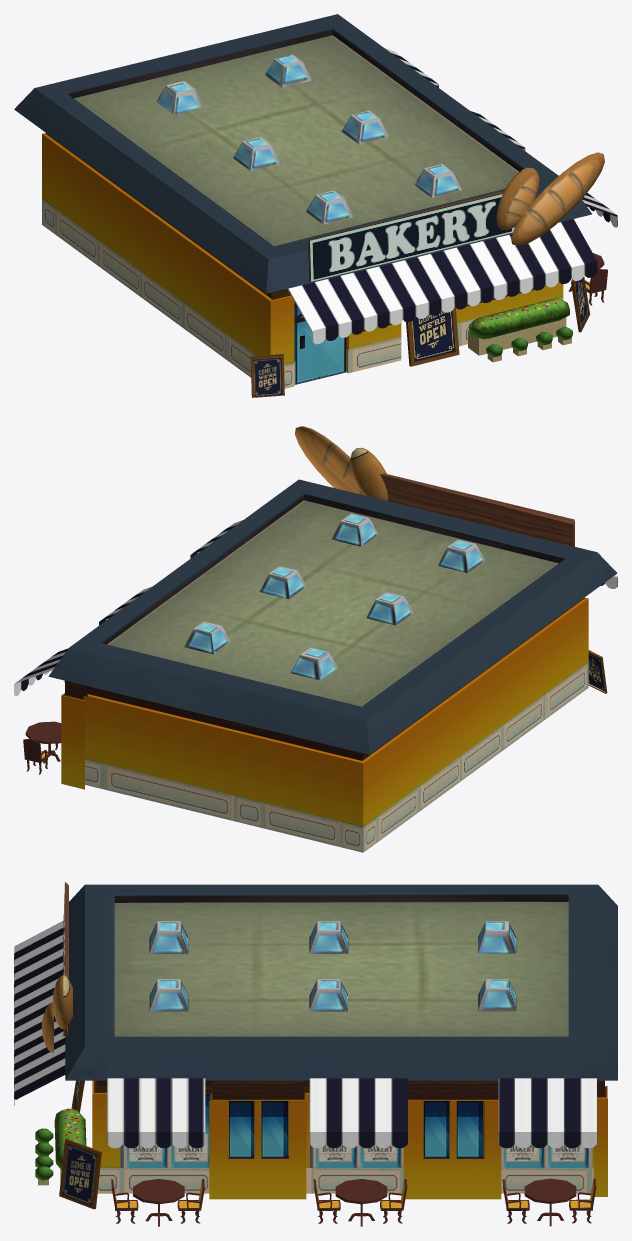
Rendered from Tx_Exterior_Business_BakeryT1.fbx.
3 views of the same model, one above another, from view 1: azimuth 30°, elevation 25°; view 2: azimuth 150°, elevation 25°; view 3: azimuth 270°, elevation 25° (orthographic). The views are drawn at different scales.
Visible parts, largest first — view 1: Roof, Building_Wall, Roof_Front, signature, BigBread, LongPlant, SlidingDoor, board1, SmallBread, board, RoofWindow1, RoofWindow3 (+5 smaller); view 2: Roof, Building_Wall, signature, BigBread, SmallBread, RoofWindow1, RoofWindow3, RoofWindow2, RoofWindow4, RoofWindow5, RoofWindow6, Table3 (+2 smaller); view 3: Roof, Building_Wall, Roof_Front, Roof_Side3, Roof_Side2, Roof_Side1, board2, Table3, Table2, Table1, LongPlant, RoofWindow3 (+13 smaller).
Boxes of the visible parts, box(x1,y1,x2,y2) form: Roof: box(14, 14, 591, 293); Building_Wall: box(42, 133, 563, 388); Roof_Front: box(287, 219, 597, 344); signature: box(308, 191, 514, 281); BigBread: box(511, 152, 604, 245); LongPlant: box(468, 298, 569, 355); SlidingDoor: box(294, 302, 346, 384); board1: box(406, 307, 459, 366); SmallBread: box(496, 167, 539, 229); board: box(250, 354, 284, 397); RoofWindow1: box(306, 190, 353, 224); RoofWindow3: box(233, 137, 280, 170); Roof: box(48, 479, 617, 754); Building_Wall: box(61, 597, 588, 852); signature: box(380, 473, 574, 546); BigBread: box(295, 426, 363, 495); SmallBread: box(350, 447, 387, 500); RoofWindow1: box(438, 539, 485, 573); RoofWindow3: box(366, 592, 413, 625); RoofWindow2: box(331, 513, 378, 546); RoofWindow4: box(259, 566, 306, 599); RoofWindow5: box(184, 621, 230, 654); RoofWindow6: box(291, 647, 337, 680); Table3: box(25, 721, 61, 763); Roof: box(65, 884, 617, 1080); Building_Wall: box(92, 1080, 607, 1199); Roof_Front: box(14, 920, 65, 1105); Roof_Side3: box(498, 1078, 596, 1148); Roof_Side2: box(309, 1078, 407, 1148); Roof_Side1: box(107, 1078, 205, 1148); board2: box(59, 1138, 101, 1209); Table3: box(524, 1178, 576, 1226); Table2: box(335, 1179, 387, 1226); Table1: box(133, 1179, 184, 1226); LongPlant: box(54, 1108, 86, 1182); RoofWindow3: box(309, 921, 348, 953).
Bounding box in the file's own units: 6.65 × 3 × 8.36.
2 materials, 2 textured.
